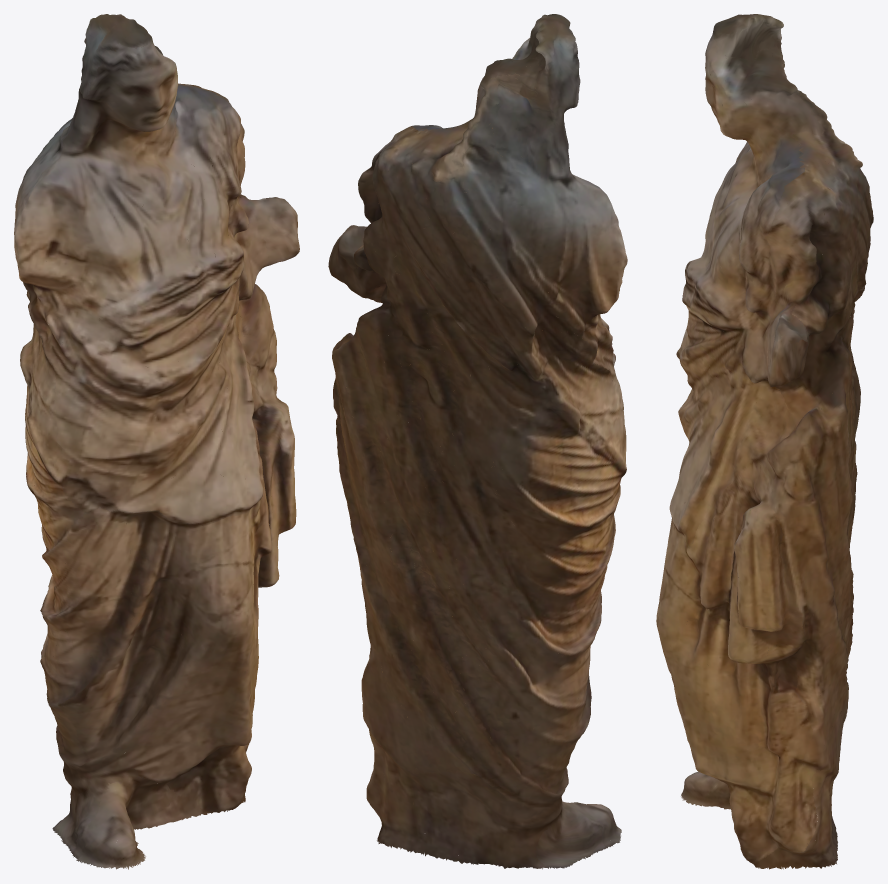
Rendered from maussollos.glb.
3 renders of one model, left to right at view 1: azimuth 30°, elevation 25°; view 2: azimuth 150°, elevation 25°; view 3: azimuth 270°, elevation 25°, orthographic. The views are drawn at different scales.
Parts seen in each view (by area): view 1: Object_7, Object_8, Object_5, Object_6, Object_4, Object_9, Object_2; view 2: Object_7, Object_6, Object_5, Object_8, Object_9, Object_4, Object_2; view 3: Object_6, Object_5, Object_8, Object_7, Object_9, Object_4, Object_2.
Part boxes in pixels (x1=…): Object_7: x1=20, y1=43, x2=278, y2=594; Object_8: x1=14, y1=14, x2=299, y2=470; Object_5: x1=14, y1=14, x2=271, y2=869; Object_6: x1=21, y1=16, x2=294, y2=757; Object_4: x1=52, y1=347, x2=296, y2=862; Object_9: x1=26, y1=401, x2=295, y2=719; Object_2: x1=72, y1=768, x2=209, y2=868; Object_7: x1=334, y1=29, x2=626, y2=693; Object_6: x1=329, y1=36, x2=616, y2=788; Object_5: x1=367, y1=14, x2=627, y2=868; Object_8: x1=328, y1=14, x2=627, y2=491; Object_9: x1=339, y1=436, x2=624, y2=745; Object_4: x1=366, y1=418, x2=619, y2=869; Object_2: x1=369, y1=729, x2=621, y2=858; Object_6: x1=676, y1=18, x2=860, y2=797; Object_5: x1=656, y1=14, x2=870, y2=869; Object_8: x1=676, y1=14, x2=873, y2=547; Object_7: x1=669, y1=36, x2=873, y2=648; Object_9: x1=656, y1=402, x2=857, y2=759; Object_4: x1=670, y1=450, x2=837, y2=869; Object_2: x1=682, y1=769, x2=838, y2=851.
Size of the model in its own units: 1.11 by 3 by 0.7447.
Materials: 1 (1 with a texture image).
